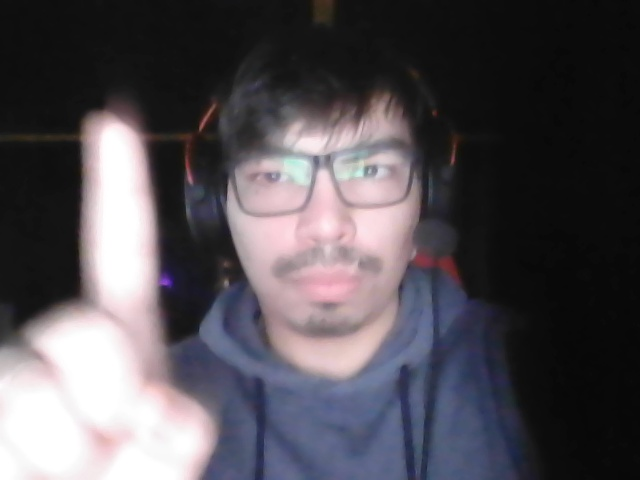one: (3, 95, 238, 480)
